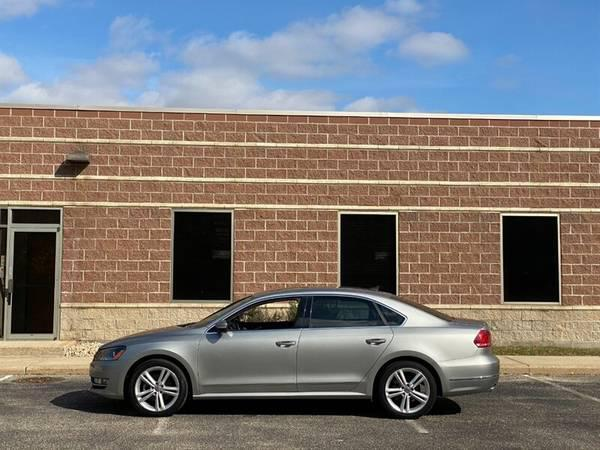Front_Bumper: (88, 360, 134, 400)
Front_Fender: (99, 328, 206, 395)
Front_Left_Door: (197, 329, 302, 395)
Front_Left_Window: (206, 295, 308, 331)
Left_Headlight: (95, 345, 128, 360)
Left_Taillight: (474, 329, 493, 350)
Rear_Bumper: (434, 350, 500, 398)
Rear_Fender: (378, 302, 480, 365)
Rear_Left_Door: (295, 326, 393, 397)
Rear_Left_Window: (303, 296, 392, 328)
Roof: (201, 286, 445, 330)
Wheel: (127, 359, 189, 419), (375, 360, 435, 417)
